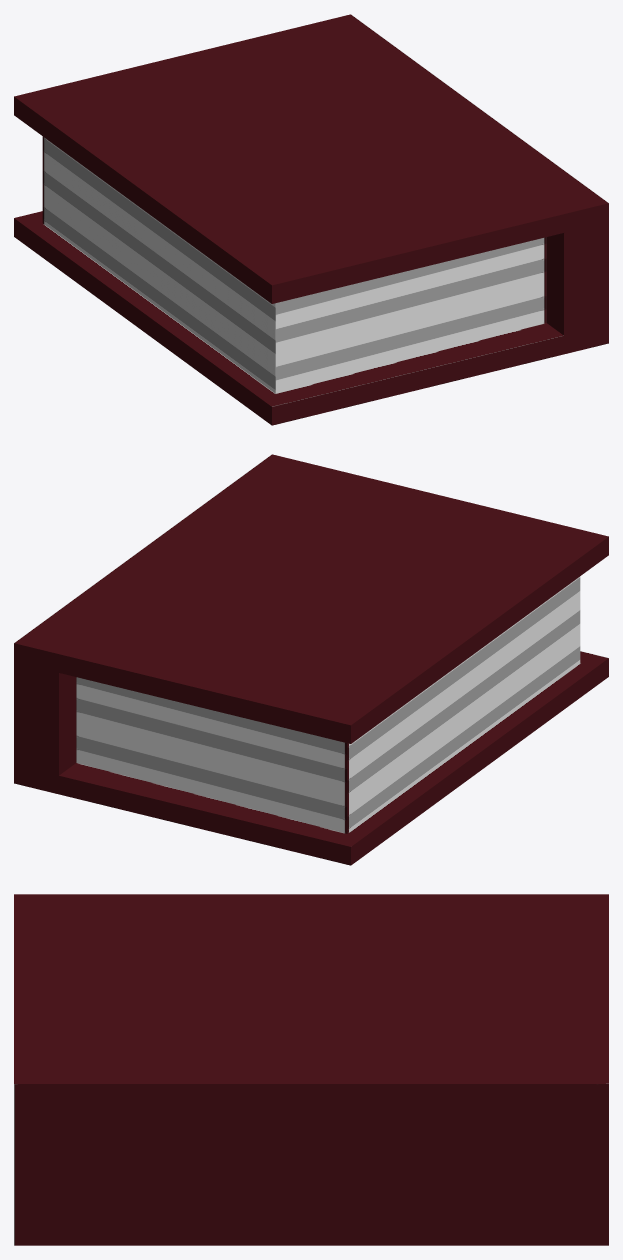
Rendered from Book1.glb.
3 renders of one model, top to bottom at view 1: azimuth 30°, elevation 25°; view 2: azimuth 150°, elevation 25°; view 3: azimuth 270°, elevation 25°, orthographic. The views are drawn at different scales.
Parts seen in each view (by area): view 1: Cube; view 2: Cube; view 3: Cube.
Boxes of the visible parts, bbox=[...] form: Cube: bbox=[14, 14, 608, 425]; Cube: bbox=[14, 454, 608, 865]; Cube: bbox=[14, 894, 608, 1245].
Bounding box in the file's own units: 0.2181 × 0.0867 × 0.2892.
1 material, 1 textured.
